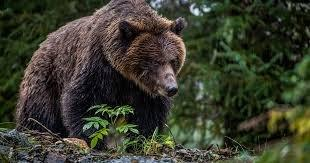bear: (16, 0, 187, 150)
